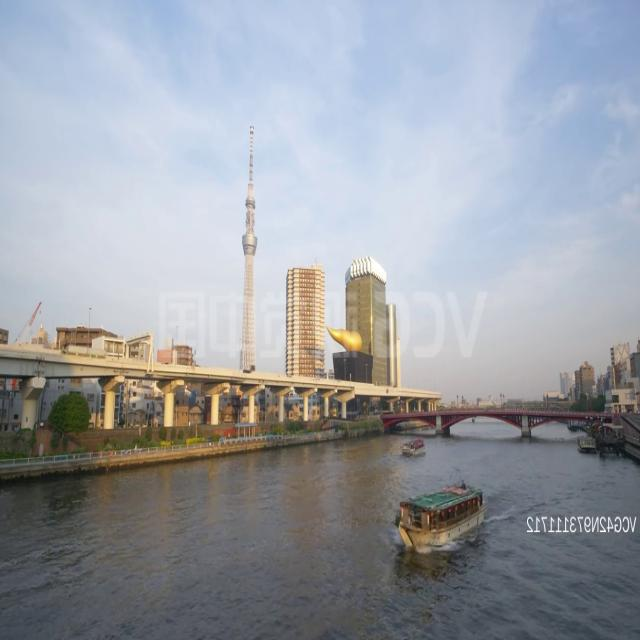houseboat: (390, 474, 490, 581)
